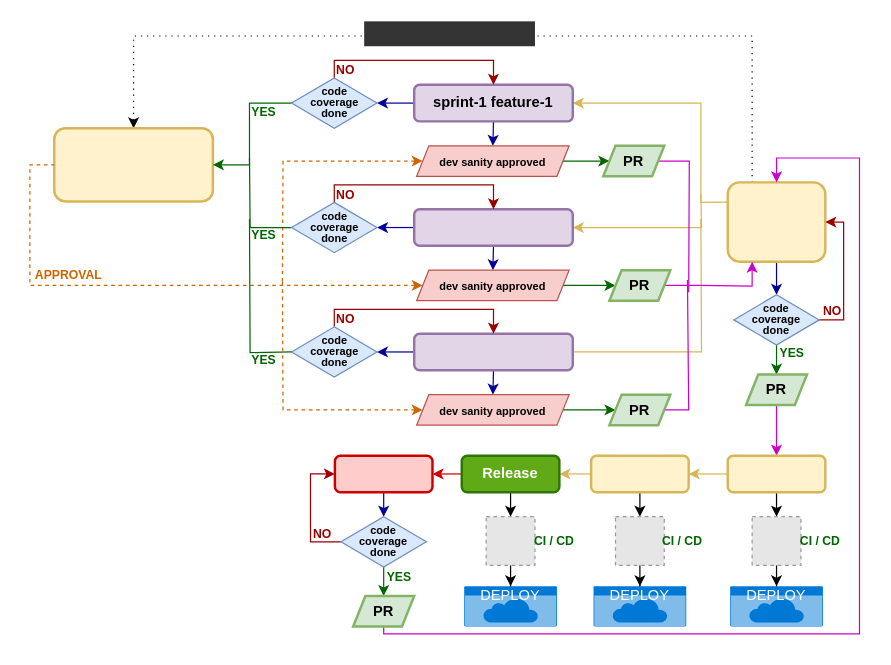
This 891x665 diagram has some shape labels left out. Grey dashed boxes stand in for pictures. The centre of each missing label's shape, as x and y in pixels:
"created on sprint start" belongs at [449,33].
"HOT FIX" belongs at [383,473].
"main" belongs at [776,221].
"QA" belongs at [776,473].
"sprint-1 dev sanity (internal testing)" belongs at [133,164].
"sprint-1 feature-(n)" belongs at [492,351].
"sprint-1 feature-2" belongs at [492,226].
"UAT" belongs at [639,473].
